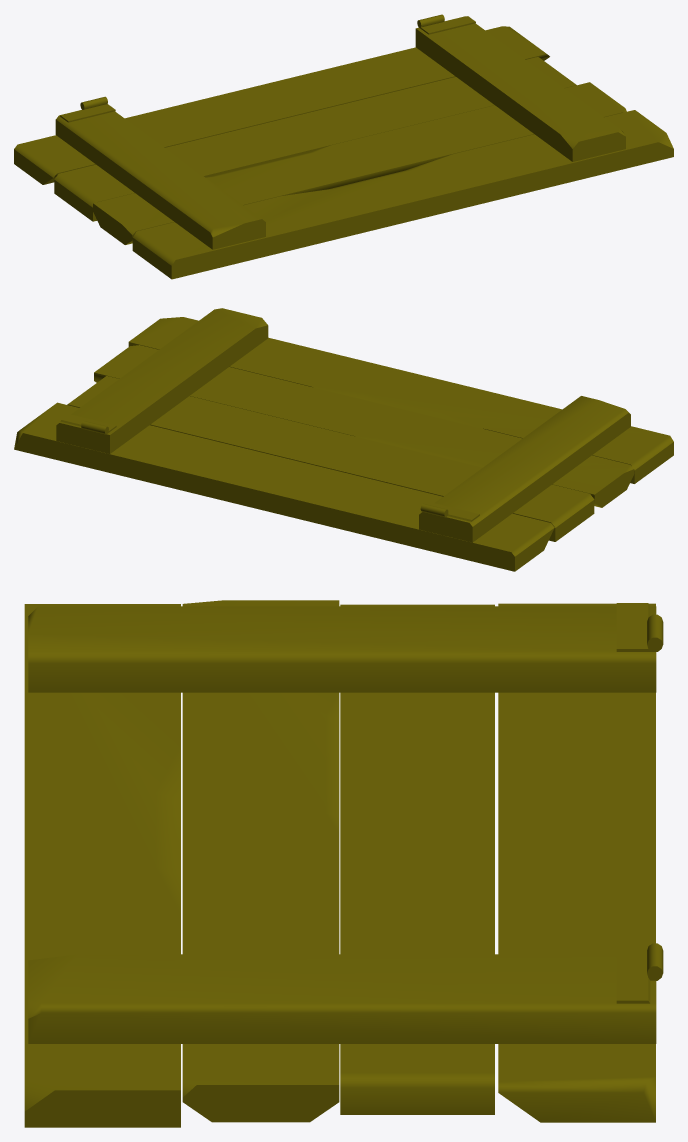
Rendered from SM_WoodBoxCap.fbx.
3 renders of one model, top to bottom at view 1: azimuth 30°, elevation 25°; view 2: azimuth 150°, elevation 25°; view 3: azimuth 270°, elevation 25°, orthographic. The views are drawn at different scales.
Parts seen in each view (by area): view 1: WoodBoxCap; view 2: WoodBoxCap; view 3: WoodBoxCap.
Part boxes in pixels (box(x1,y1,x2,y2)): WoodBoxCap: box(14, 14, 673, 279); WoodBoxCap: box(14, 308, 673, 571); WoodBoxCap: box(24, 600, 663, 1127).
Size of the model in its own units: 84.6 by 7.2 by 46.57.
